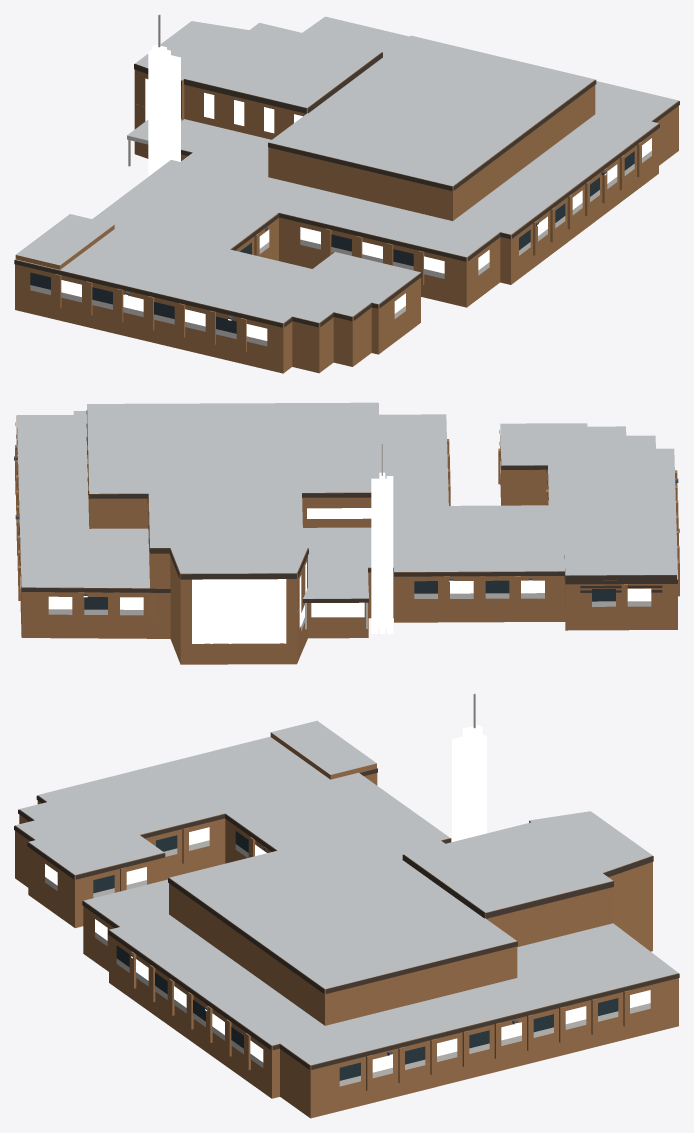
Rendered from br_b276_lds_church.gltf.
3 renders of one model, top to bottom at view 1: azimuth 30°, elevation 25°; view 2: azimuth 150°, elevation 25°; view 3: azimuth 270°, elevation 25°, orthographic. The views are drawn at different scales.
Parts seen in each view (by area): view 1: br_b276_lds_church; view 2: br_b276_lds_church; view 3: br_b276_lds_church.
Part boxes in pixels (box(x1,y1,x2,y2)): br_b276_lds_church: box(14, 14, 679, 373); br_b276_lds_church: box(14, 402, 679, 664); br_b276_lds_church: box(14, 693, 679, 1118).
Bounding box in the file's own units: 77.74 × 20.94 × 64.1.
